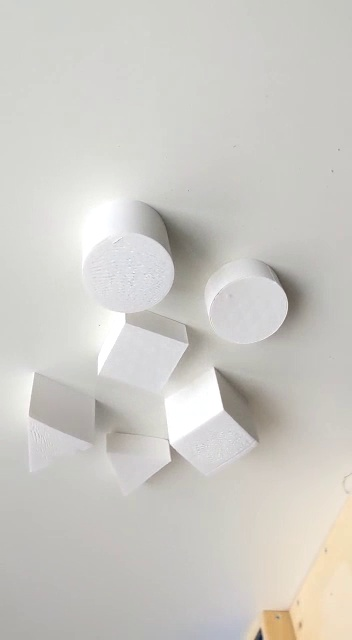Clyinder_short: (198, 253, 290, 348)
Cube: (161, 363, 259, 480)
Cube_short: (86, 304, 194, 394)
Cylinder: (76, 197, 177, 316)
Triangle: (25, 369, 97, 474)
Triangle_short: (103, 427, 171, 499)
